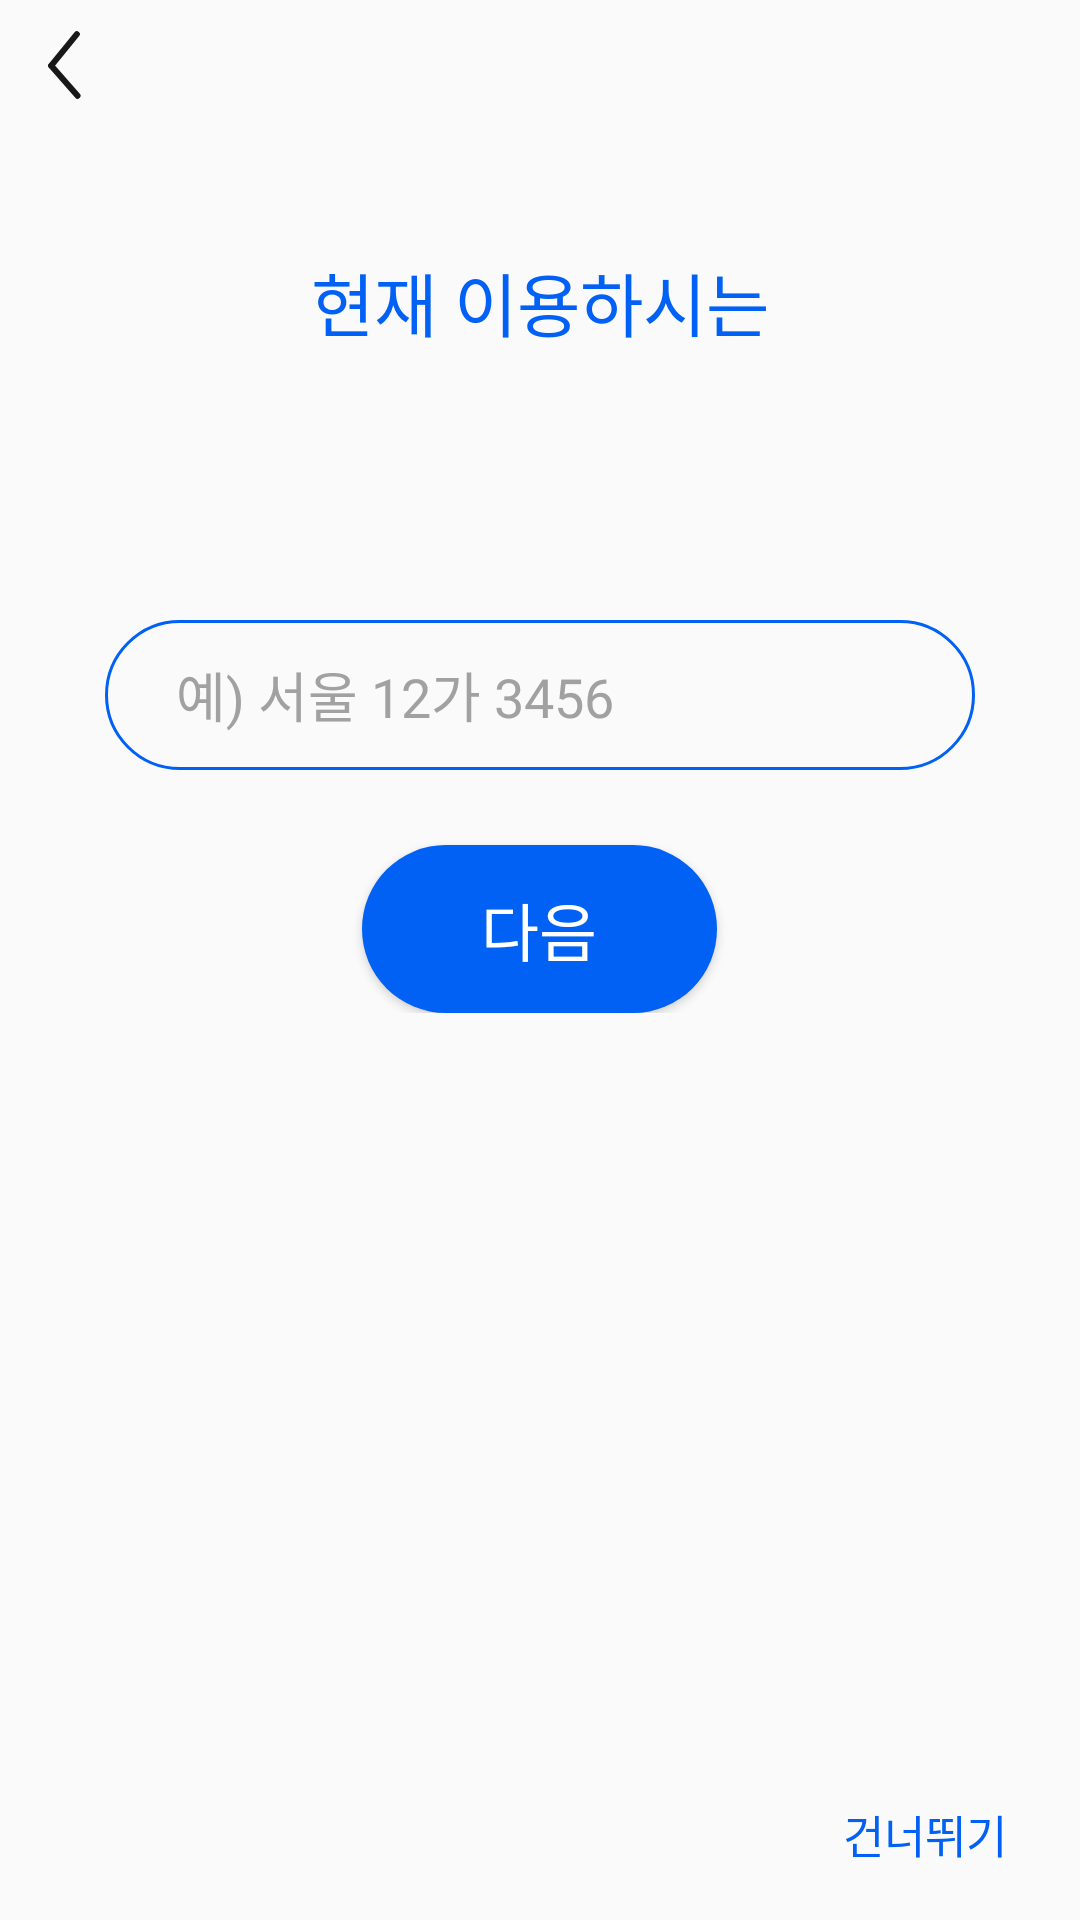

Icon bounding boxes for this 1080x1920 phone screenshot, format (x1, y1, x2, y2):
back arrow: (48, 31, 81, 99)
